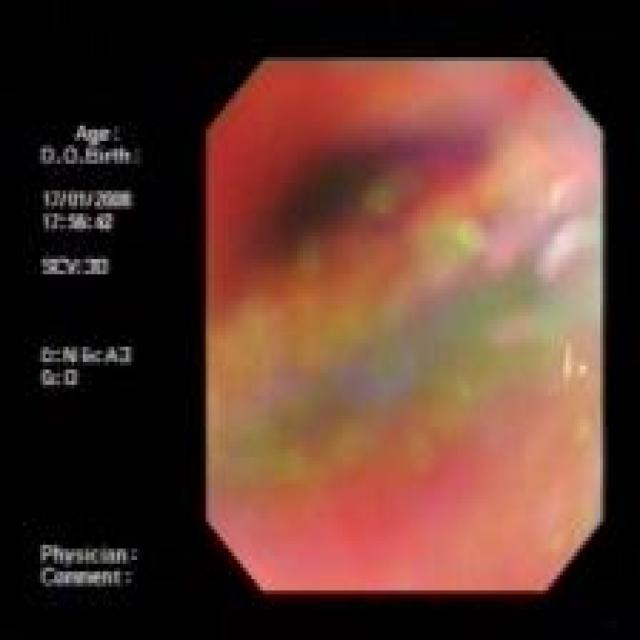color misalignment: (206, 63, 602, 591), (36, 117, 144, 593)
